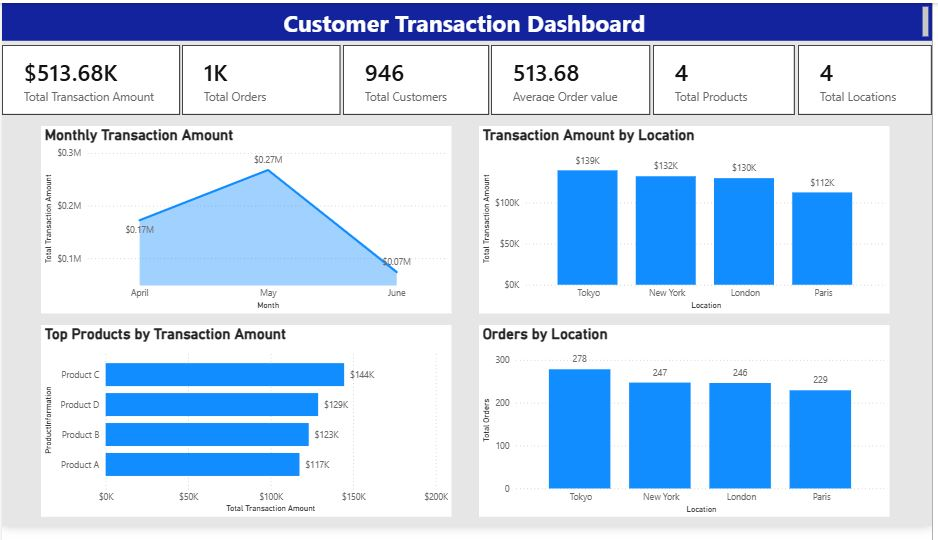

What the dashboard file says about the page in this screenshot:
{"tool":"powerbi","page":{"name":"Customer Transaction Dashboard","canvas":[1280,720],"ordinal":0},"visuals":[{"type":"cardVisual","fields":{"Data":["customer_data.Total Orders"]},"box":[248.4,57.9,217.9,96],"z":0},{"type":"cardVisual","fields":{"Data":["customer_data.Total Transaction Amount"]},"box":[0,57.9,245.3,96],"z":1},{"type":"cardVisual","fields":{"Data":["customer_data.Total Customers"]},"box":[469.3,57.9,201.1,96],"z":2},{"type":"cardVisual","fields":{"Data":["customer_data.Average Order value"]},"box":[673.5,57.9,219.4,96],"z":3},{"type":"cardVisual","fields":{"Data":["customer_data.Total Products"]},"box":[896,57.9,195,96],"z":4},{"type":"cardVisual","fields":{"Data":["customer_data.Total Locations"]},"box":[1095.6,57.9,184.4,96],"z":5},{"type":"lineChart","title":"Monthly Transaction Amount","fields":{"Category":["customer_data.Purchase Date.Variation.Date Hierarchy.Month"],"Y":["customer_data.Total Transaction Amount"]},"box":[53.3,169.1,565.3,257.5],"z":6},{"type":"clusteredColumnChart","title":"Transaction Amount by Location","fields":{"Y":["customer_data.Total Transaction Amount"],"Category":["customer_data.Location"]},"box":[656.8,169.1,565.3,257.5],"z":7},{"type":"clusteredBarChart","title":"Top Products by Transaction Amount","fields":{"Category":["customer_data.ProductInformation"],"Y":["customer_data.Total Transaction Amount"]},"box":[53.3,443.4,565.3,263.6],"z":8},{"type":"clusteredColumnChart","title":"Orders by Location","fields":{"Category":["customer_data.Location"],"Y":["customer_data.Total Orders"]},"box":[657,443,565,264],"z":9},{"type":"textbox","box":[0,0,1280,51.8],"z":10}]}

Visuals, with their boxes in screenshot pixels (x1, y1, x2, y2), scaled from the page's 1280x720 canvas onto the 938x540 screenshot:
cardVisual - customer_data.Total Orders: box(182, 43, 342, 115)
cardVisual - customer_data.Total Transaction Amount: box(0, 43, 180, 115)
cardVisual - customer_data.Total Customers: box(344, 43, 491, 115)
cardVisual - customer_data.Average Order value: box(494, 43, 654, 115)
cardVisual - customer_data.Total Products: box(657, 43, 799, 115)
cardVisual - customer_data.Total Locations: box(803, 43, 937, 115)
"Monthly Transaction Amount" lineChart: box(39, 127, 453, 320)
"Transaction Amount by Location" clusteredColumnChart: box(481, 127, 896, 320)
"Top Products by Transaction Amount" clusteredBarChart: box(39, 333, 453, 530)
"Orders by Location" clusteredColumnChart: box(481, 332, 895, 530)
textbox: box(0, 0, 937, 39)
